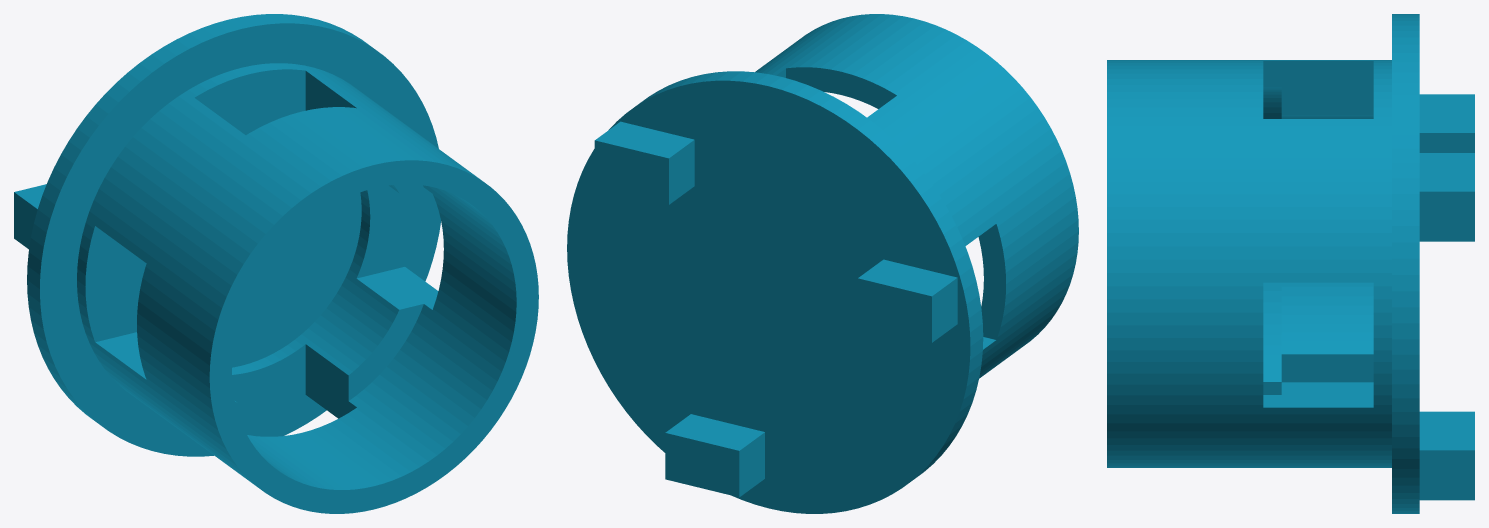
The model's file is agua_difusor.glb.
3 views of the same model, side by side, from view 1: azimuth 30°, elevation 25°; view 2: azimuth 150°, elevation 25°; view 3: azimuth 270°, elevation 25° (orthographic). The views are drawn at different scales.
Visible parts, largest first — view 1: world; view 2: world; view 3: world.
Part boxes in pixels (<box>): world: <box>14,14,538,513</box>; world: <box>567,14,1078,513</box>; world: <box>1107,14,1474,513</box>.
Bounding box in the file's own units: 54.4 × 54.4 × 40.
